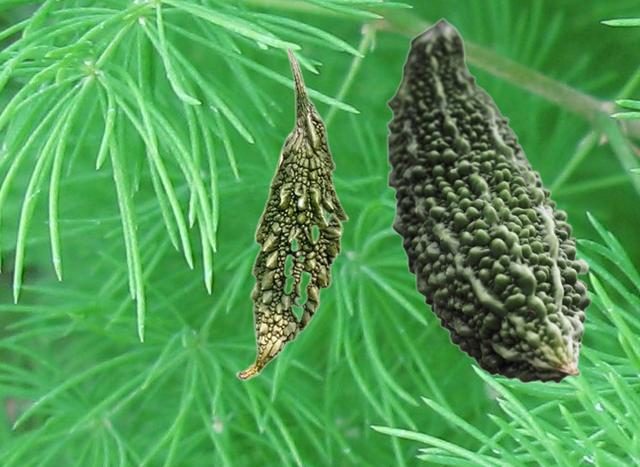ampalaya: (386, 17, 591, 383), (235, 45, 348, 379)
